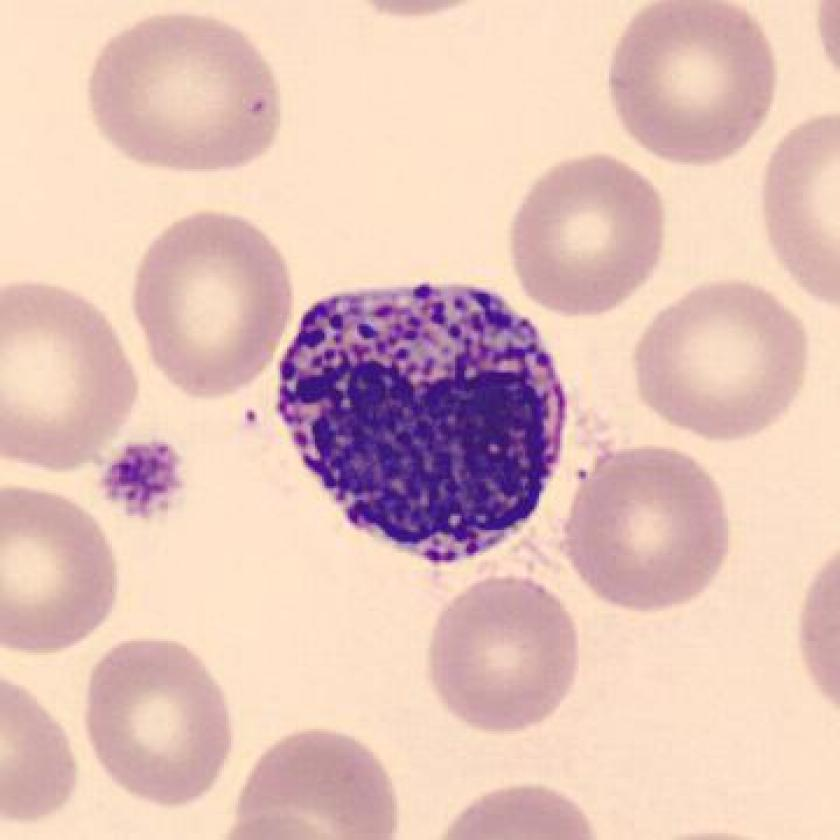basophil: (260, 279, 594, 568)
